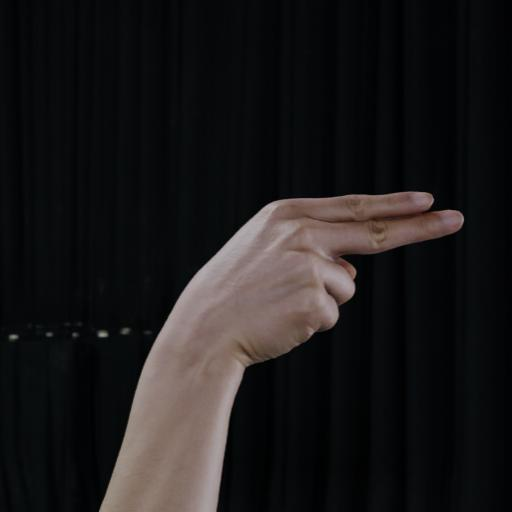H: (137, 174, 492, 388)
